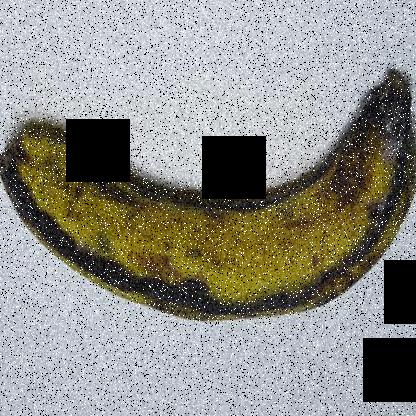overripe: (0, 52, 415, 328)
